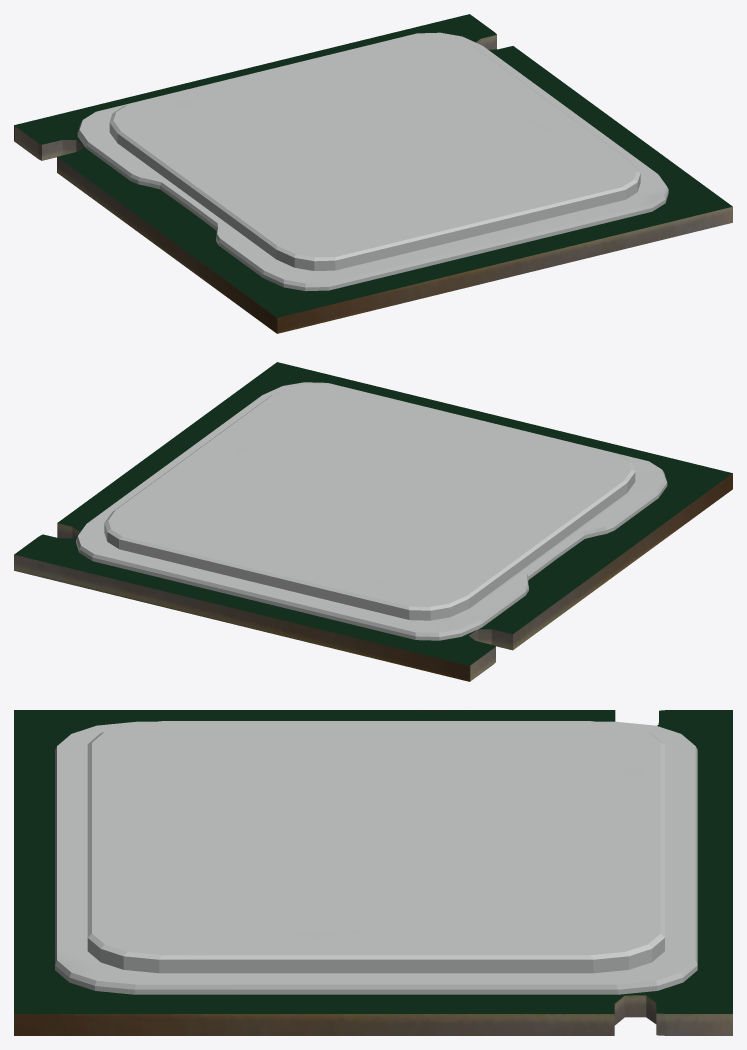
The model's file is processor.glb.
3 renders of one model, top to bottom at view 1: azimuth 30°, elevation 25°; view 2: azimuth 150°, elevation 25°; view 3: azimuth 270°, elevation 25°, orthographic. The views are drawn at different scales.
Visible parts, largest first — view 1: Object_3, Object_2; view 2: Object_3, Object_2; view 3: Object_3, Object_2.
Part boxes in pixels (x1,y1,x2,y2): Object_3: [77, 32, 668, 291]; Object_2: [14, 14, 732, 333]; Object_3: [76, 382, 667, 640]; Object_2: [14, 362, 732, 681]; Object_3: [55, 721, 697, 994]; Object_2: [14, 710, 732, 1035].
Bounding box in the file's own units: 3.16 × 0.2308 × 3.16.
2 materials, 2 textured.
